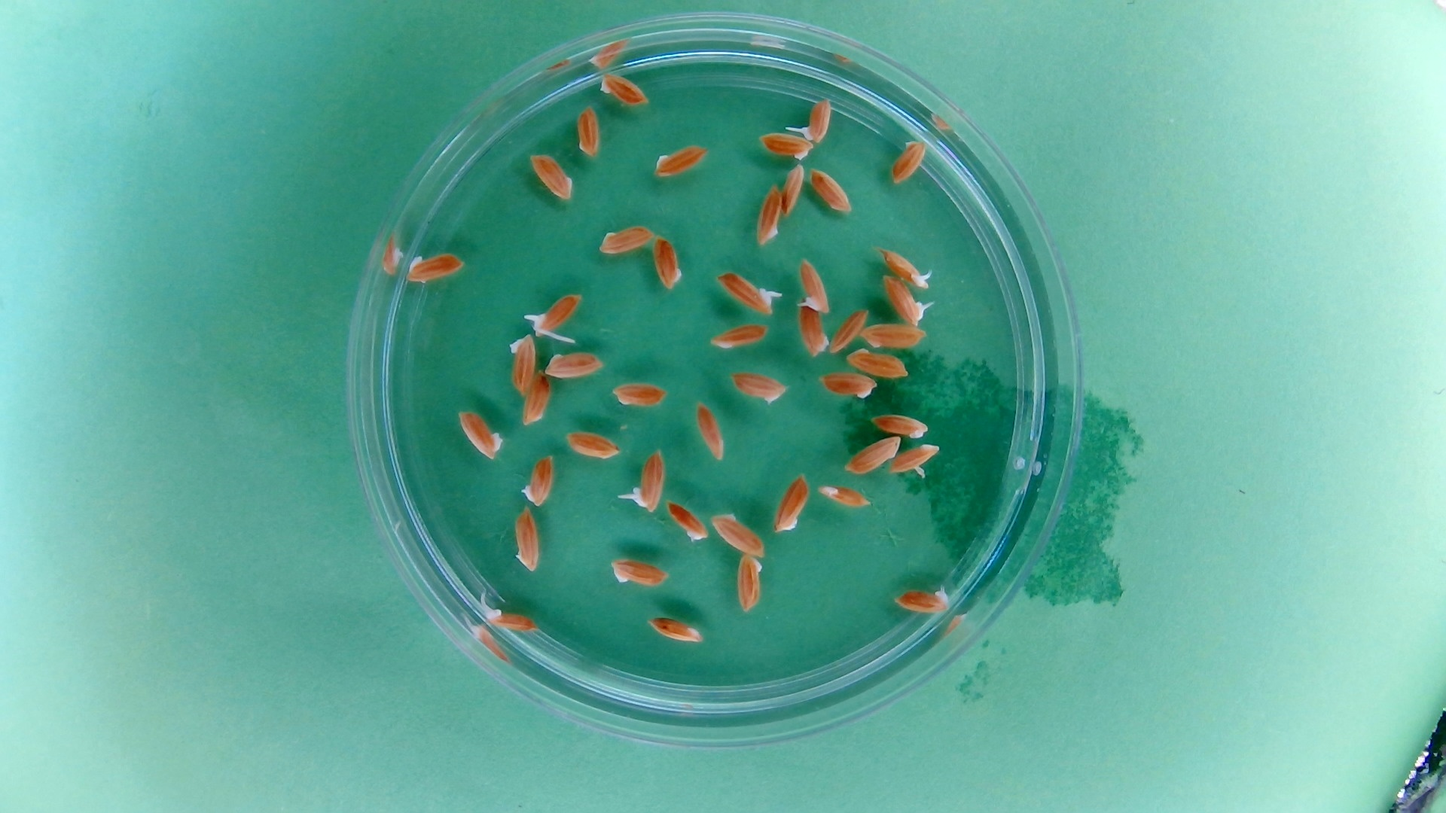no: (710, 510, 767, 558), (772, 470, 813, 536), (841, 434, 902, 477), (456, 406, 503, 461), (526, 151, 575, 203), (807, 163, 855, 216), (403, 249, 465, 287), (691, 399, 727, 463), (887, 135, 930, 187), (728, 370, 790, 406), (651, 142, 711, 179), (752, 181, 785, 248), (858, 321, 929, 352), (606, 556, 670, 590), (890, 583, 953, 617), (844, 346, 912, 377), (596, 69, 650, 108), (596, 222, 656, 257), (708, 321, 773, 353), (815, 370, 878, 403), (510, 507, 541, 574), (520, 452, 557, 508), (650, 233, 685, 291), (887, 442, 941, 479), (609, 379, 671, 411), (795, 303, 831, 358), (666, 499, 709, 545), (563, 428, 621, 462), (830, 305, 868, 356), (544, 349, 606, 380), (868, 410, 932, 440), (645, 614, 705, 646), (734, 553, 765, 614), (508, 332, 537, 397), (756, 131, 816, 162), (816, 480, 873, 510), (520, 373, 551, 428), (779, 160, 807, 218), (574, 102, 603, 158), (796, 260, 829, 308)
yes: (716, 269, 778, 315), (880, 274, 930, 326), (877, 245, 933, 290), (630, 449, 667, 513), (529, 291, 581, 336), (799, 94, 836, 144), (484, 605, 537, 634)
